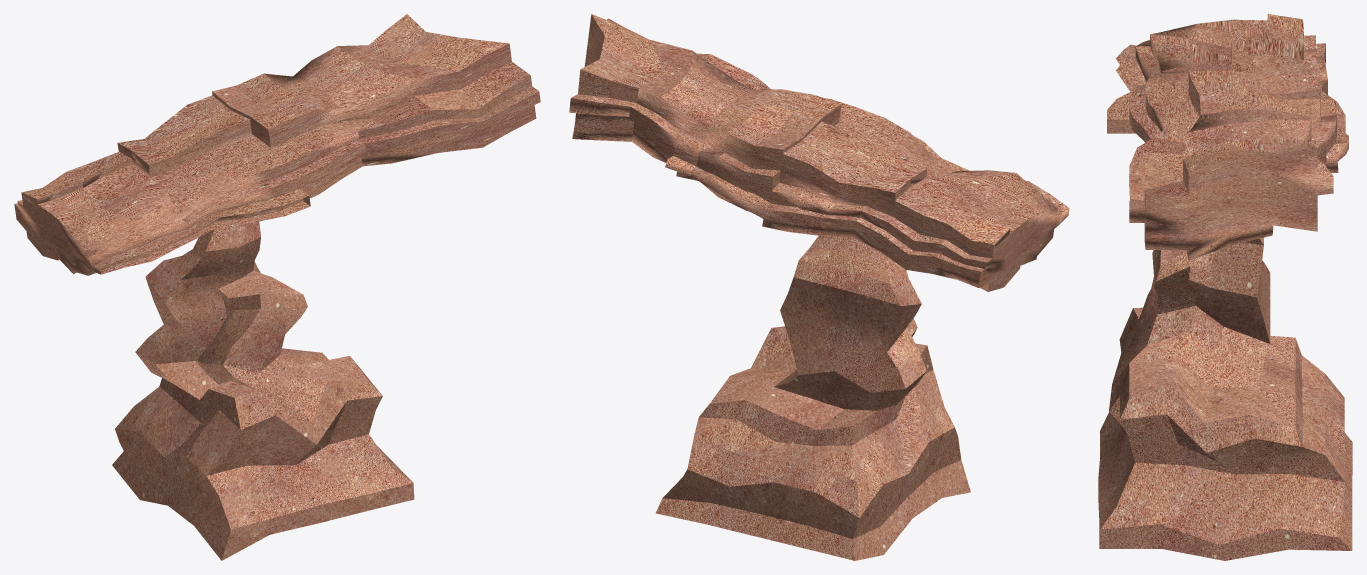
File: Mountain Sand Test5.fbx
The picture shows the model from 3 angles, left to right: view 1: azimuth 30°, elevation 25°; view 2: azimuth 150°, elevation 25°; view 3: azimuth 270°, elevation 25°; orthographic projection. The views are drawn at different scales.
Parts seen in each view (by area): view 1: Cube, Plane; view 2: Plane, Cube; view 3: Plane, Cube.
Part boxes in pixels (x1,y1,x2,y2): Cube: (14,14,540,275); Plane: (112,221,414,560); Plane: (656,235,970,560); Cube: (569,14,1069,291); Plane: (1098,237,1352,560); Cube: (1107,14,1348,260).
Bounding box in the file's own units: 2077 × 1817 × 898.
